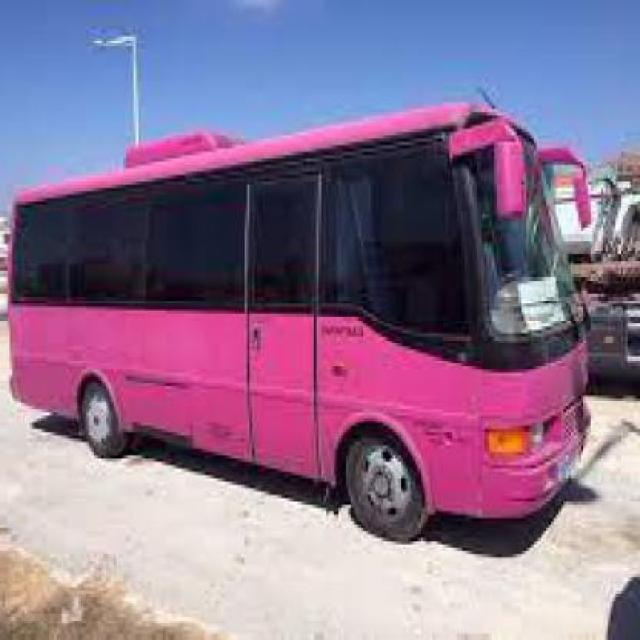bus: (10, 108, 604, 542)
